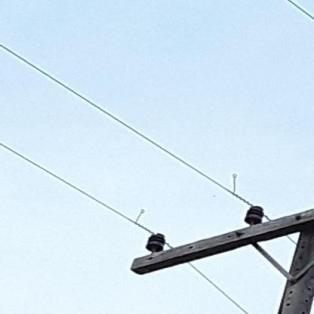Poste: (176, 199, 314, 314)
